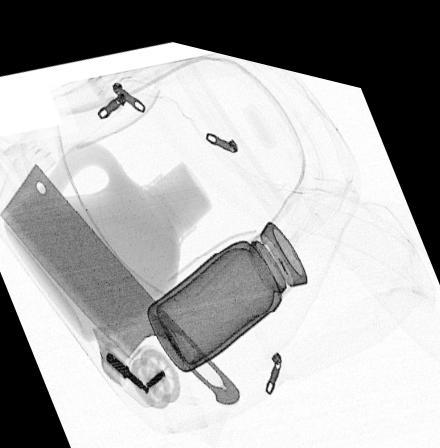Knife: (0, 162, 242, 395)
